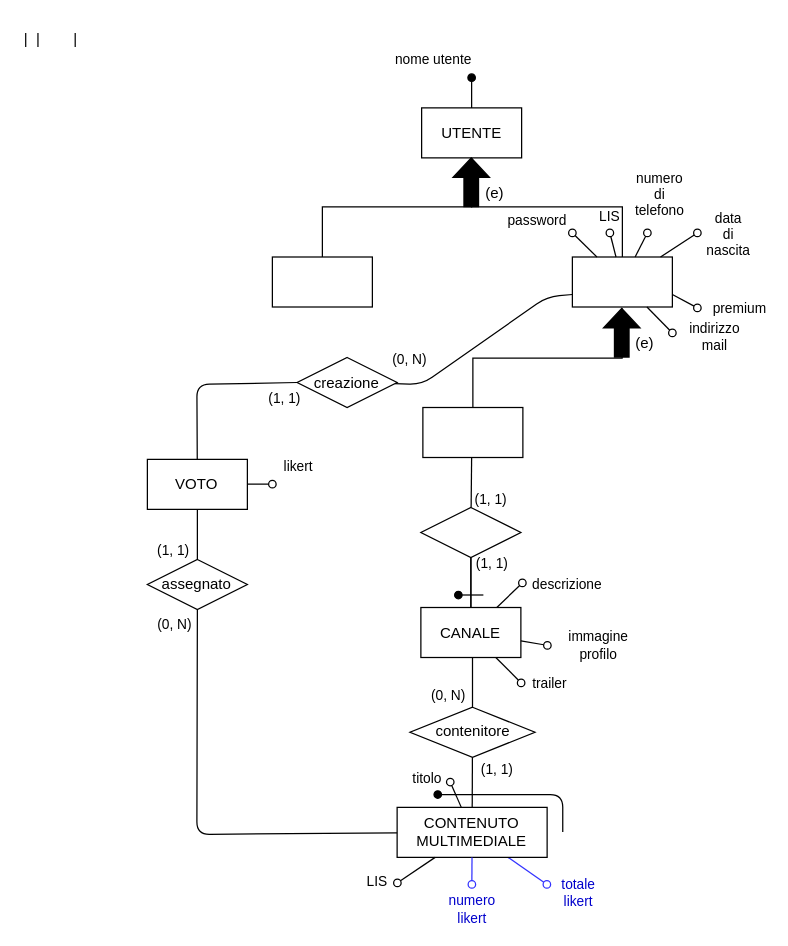
This 788x946 diagram has some shape labels left out. Here are the shapes that lost their labels. From the top down, the centre of each, then its label:
the point at 321,281: GUEST
the point at 621,281: REGISTRATO
the point at 472,432: STREAMER
the point at 470,532: gestione
